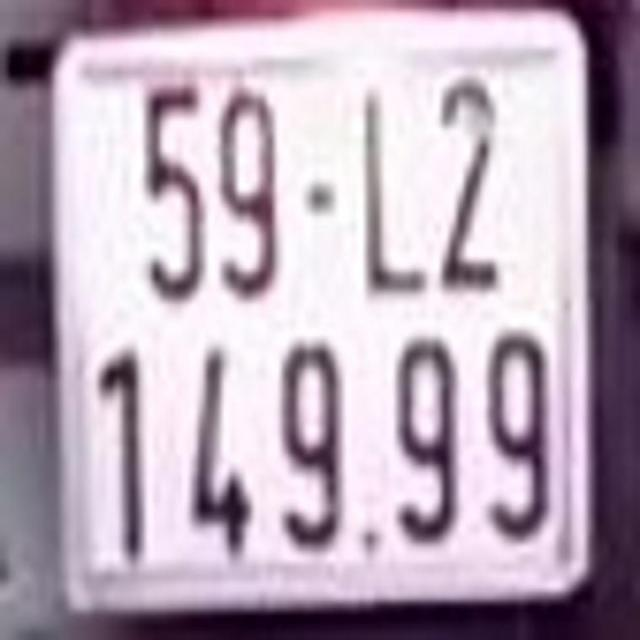1: (97, 356, 155, 556)
2: (440, 80, 502, 286)
4: (190, 343, 252, 556)
5: (138, 88, 209, 297)
9: (388, 330, 456, 540), (485, 329, 552, 538), (217, 92, 280, 300), (278, 338, 341, 543)
L: (347, 87, 430, 290)
